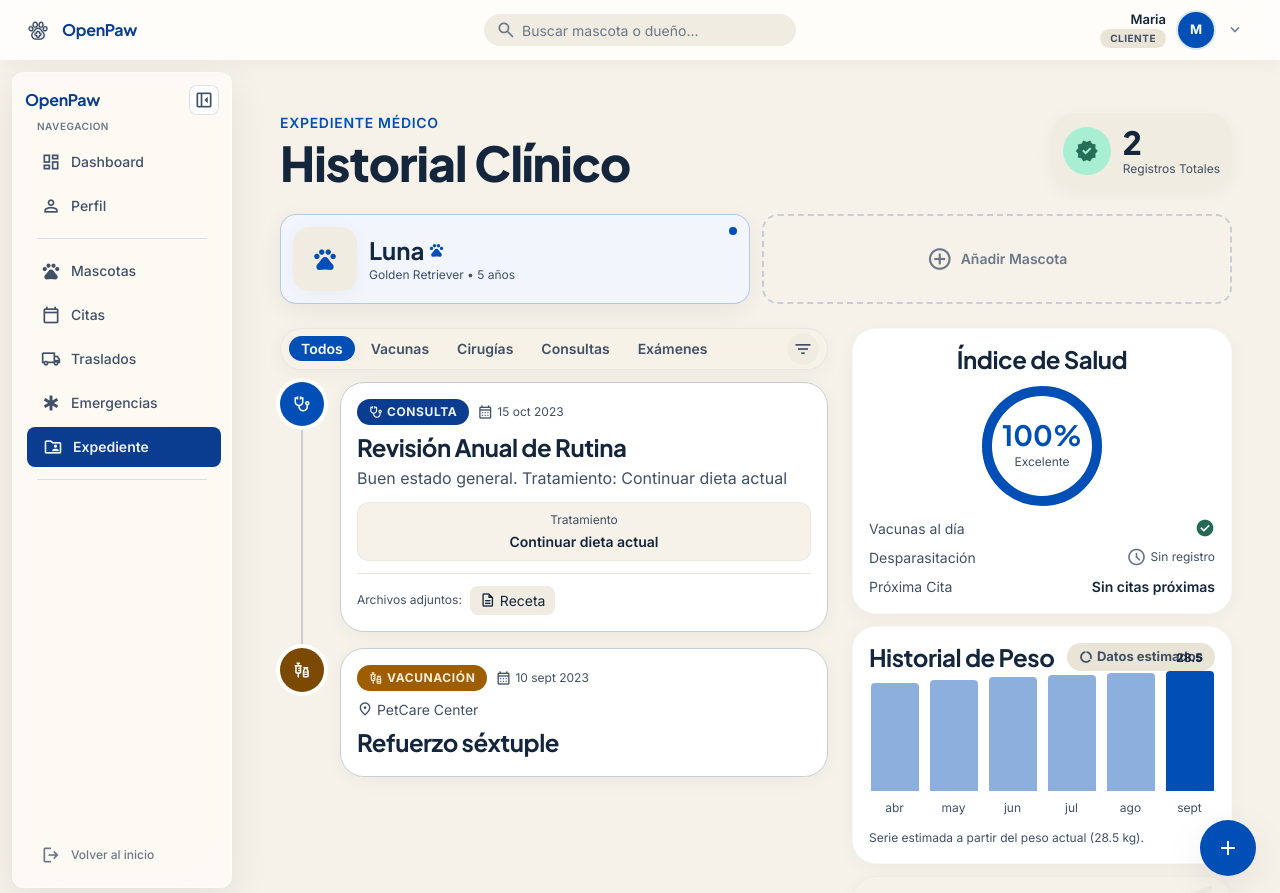
Test: ExpedientePage - expediente médico (T29) › filtros por categoría: "Vacunas" solo muestra la vacuna
expect the heading "Revisión Anual de Rutina" is shown: met, box [357,432,626,462]
Click the button "Vacunas": coordinates (400, 349) [359,336,441,361]
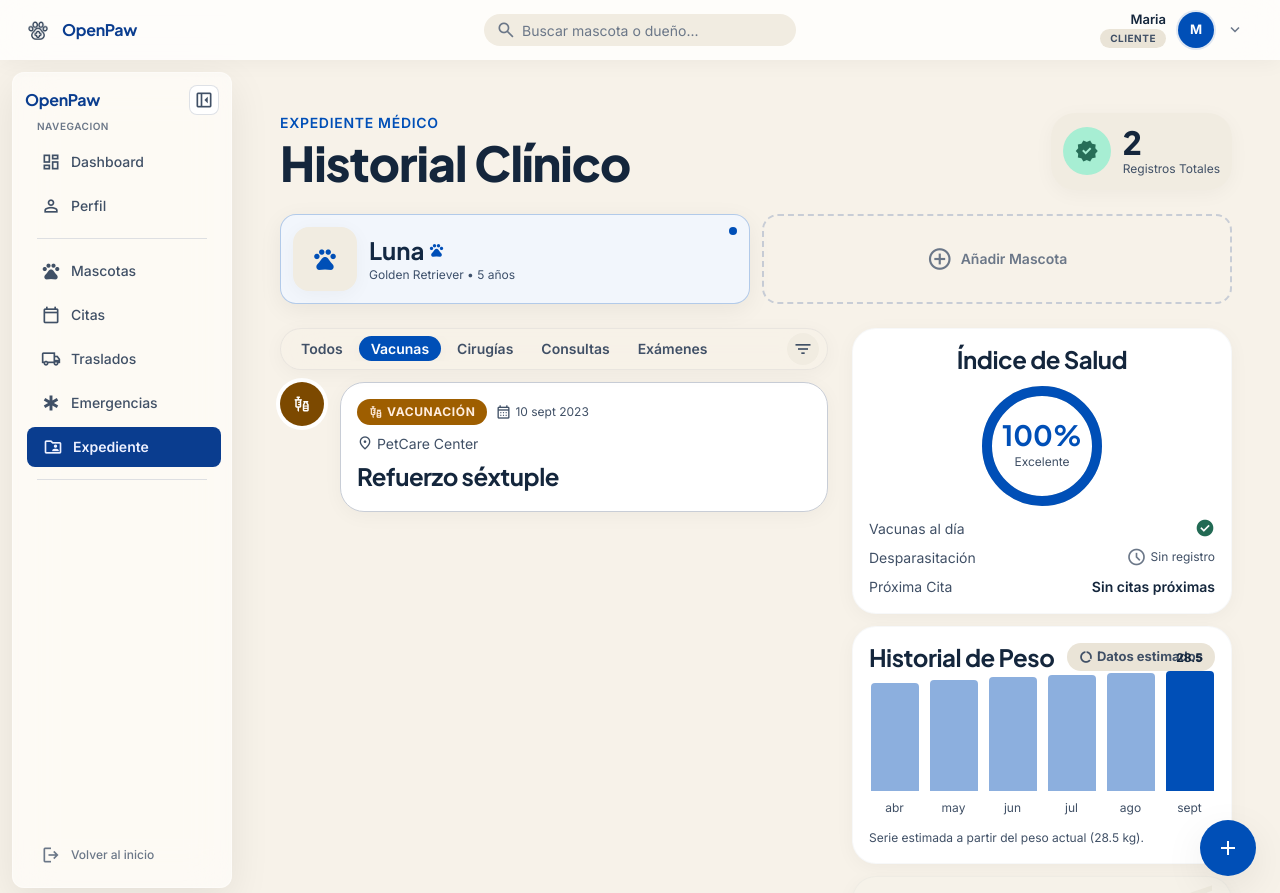
expect the heading "Refuerzo séxtuple" is shown: met, box [357,461,559,491]
expect the heading "Revisión Anual de Rutina" is gone: met
Click the button "Todos": coordinates (322, 349) [289,336,355,361]
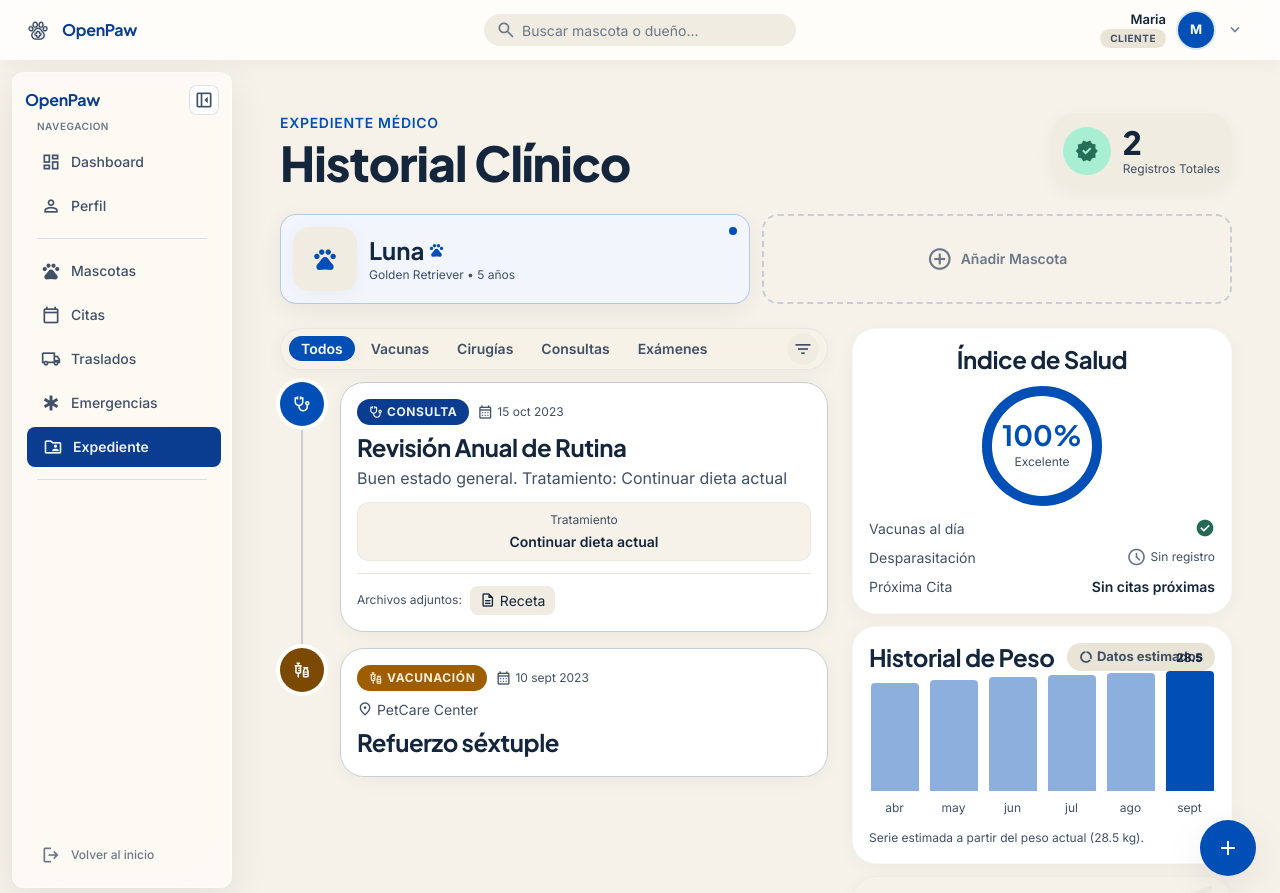
expect the heading "Revisión Anual de Rutina" is shown: met, box [357,432,626,462]
